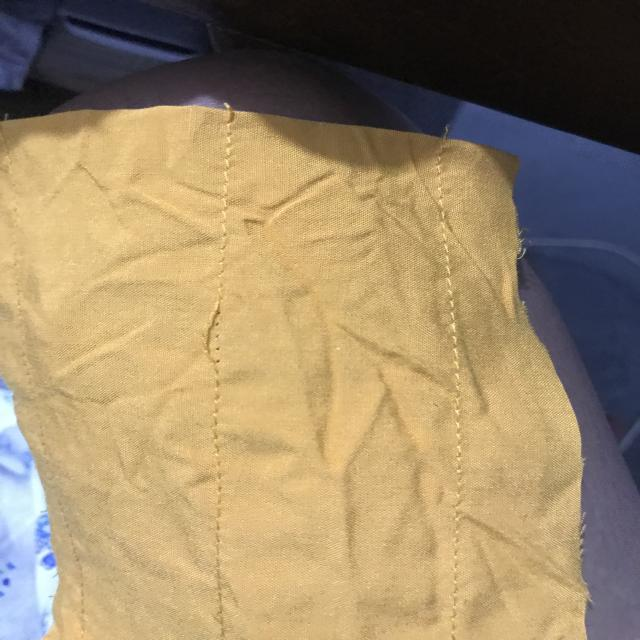good: (204, 412, 246, 516)
skip: (179, 288, 247, 388)
